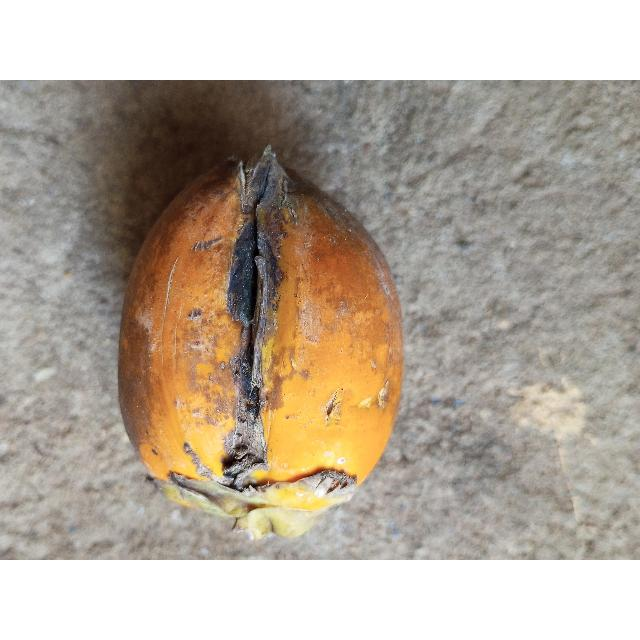damaged: (117, 148, 405, 540)
